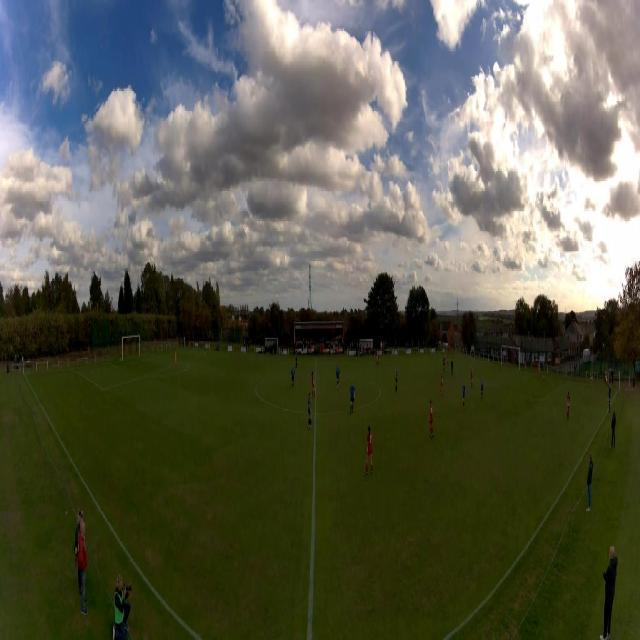ball: (544, 376, 545, 378)
player: (364, 425, 375, 477), (307, 392, 313, 430), (350, 382, 356, 416), (429, 399, 433, 439), (290, 364, 296, 388), (312, 370, 317, 398), (567, 391, 571, 420), (440, 370, 444, 396), (336, 364, 340, 388), (463, 381, 466, 410), (395, 366, 398, 392), (481, 375, 484, 399), (471, 366, 474, 388), (451, 358, 454, 376), (174, 351, 177, 369), (295, 350, 298, 368), (538, 361, 541, 378), (446, 352, 449, 368), (443, 356, 445, 374), (444, 353, 446, 367), (377, 351, 379, 365), (377, 355, 378, 366)
